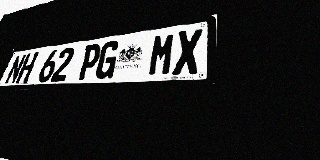2: (50, 47, 76, 82)
6: (36, 49, 61, 82)
G: (93, 40, 121, 79)
H: (15, 52, 39, 84)
M: (147, 32, 177, 77)
N: (4, 54, 27, 84)
P: (76, 43, 103, 80)
X: (172, 28, 203, 75)
